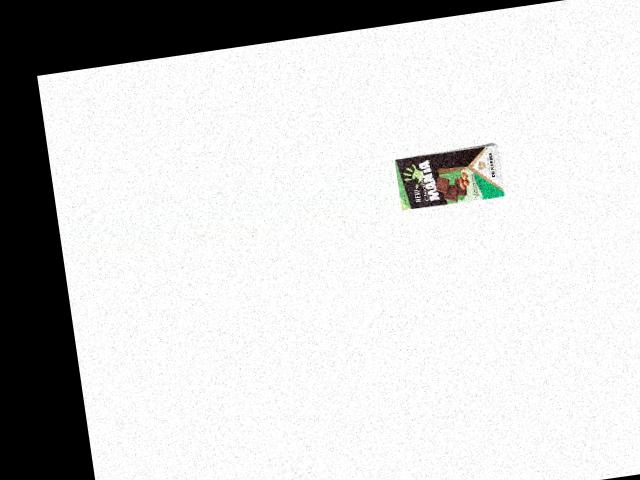chocolate: (392, 141, 507, 213)
